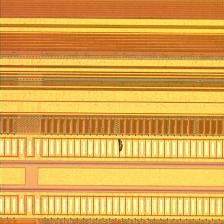PIQ PARTICLE: (113, 137, 129, 153)
